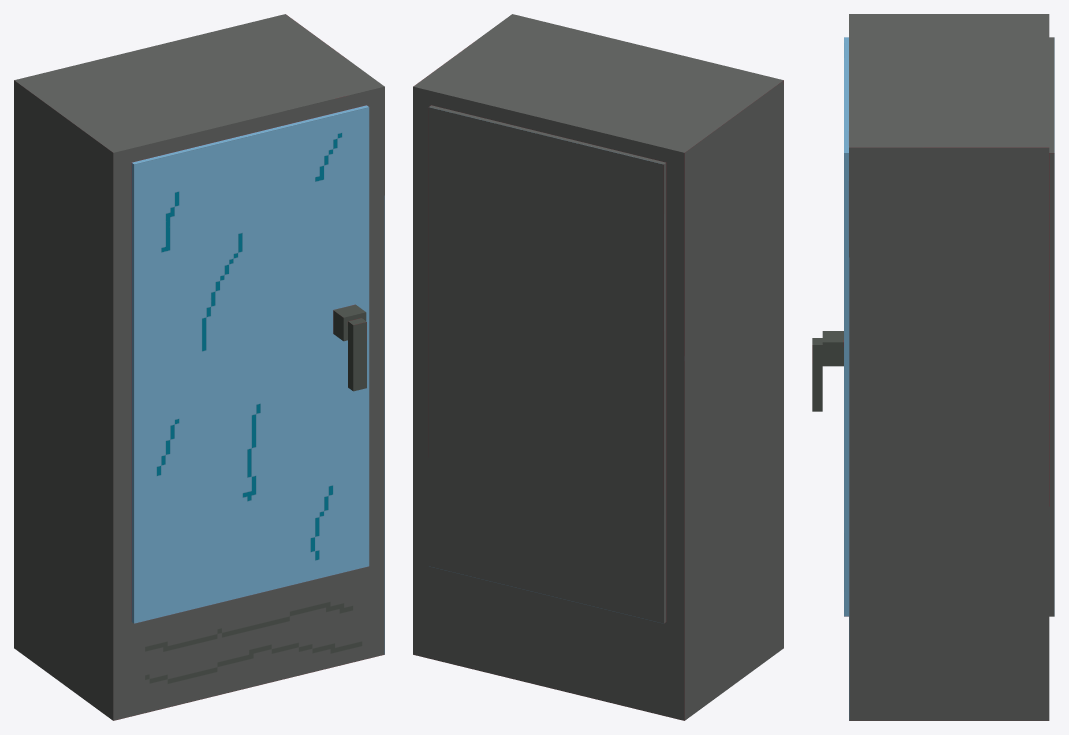
The model's file is Escenario 3 chocorramosurvivor-0-0.obj.
3 views of the same model, side by side, from view 1: azimuth 30°, elevation 25°; view 2: azimuth 150°, elevation 25°; view 3: azimuth 270°, elevation 25° (orthographic).
Visible parts, largest first — view 1: Escenario_3_chocorramosurvivor-0-0; view 2: Escenario_3_chocorramosurvivor-0-0; view 3: Escenario_3_chocorramosurvivor-0-0.
Part boxes in pixels (x1,y1,x2,y2): Escenario_3_chocorramosurvivor-0-0: [14, 14, 384, 720]; Escenario_3_chocorramosurvivor-0-0: [413, 14, 783, 720]; Escenario_3_chocorramosurvivor-0-0: [812, 14, 1054, 720].
Bounding box in the file's own units: 6 × 12 × 4.6.
Materials: 1 (1 with a texture image).
